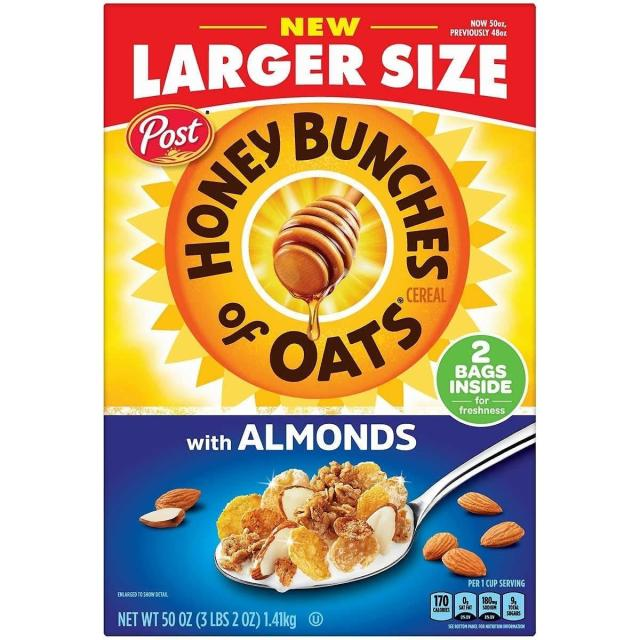food-package: (107, 7, 544, 631)
